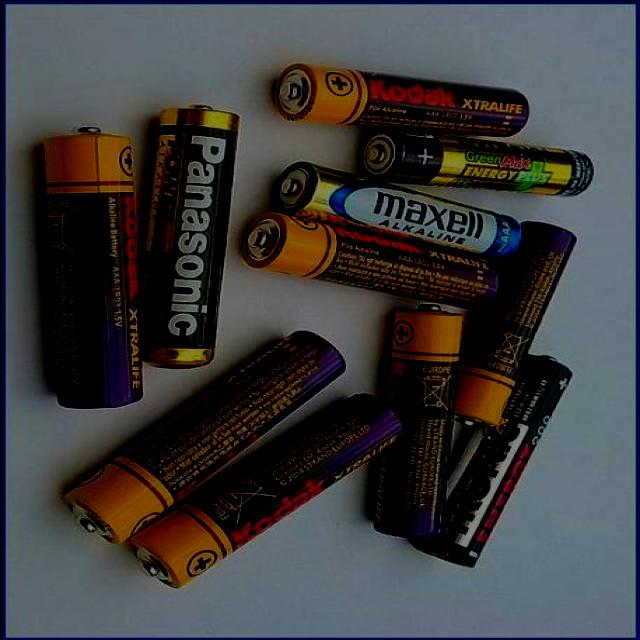AA: (60, 326, 351, 548), (124, 390, 408, 590), (406, 351, 578, 571), (39, 122, 148, 411), (141, 100, 243, 373), (239, 208, 503, 311), (453, 217, 581, 428), (271, 159, 525, 263), (370, 301, 468, 543), (267, 61, 534, 138), (355, 126, 596, 198)
